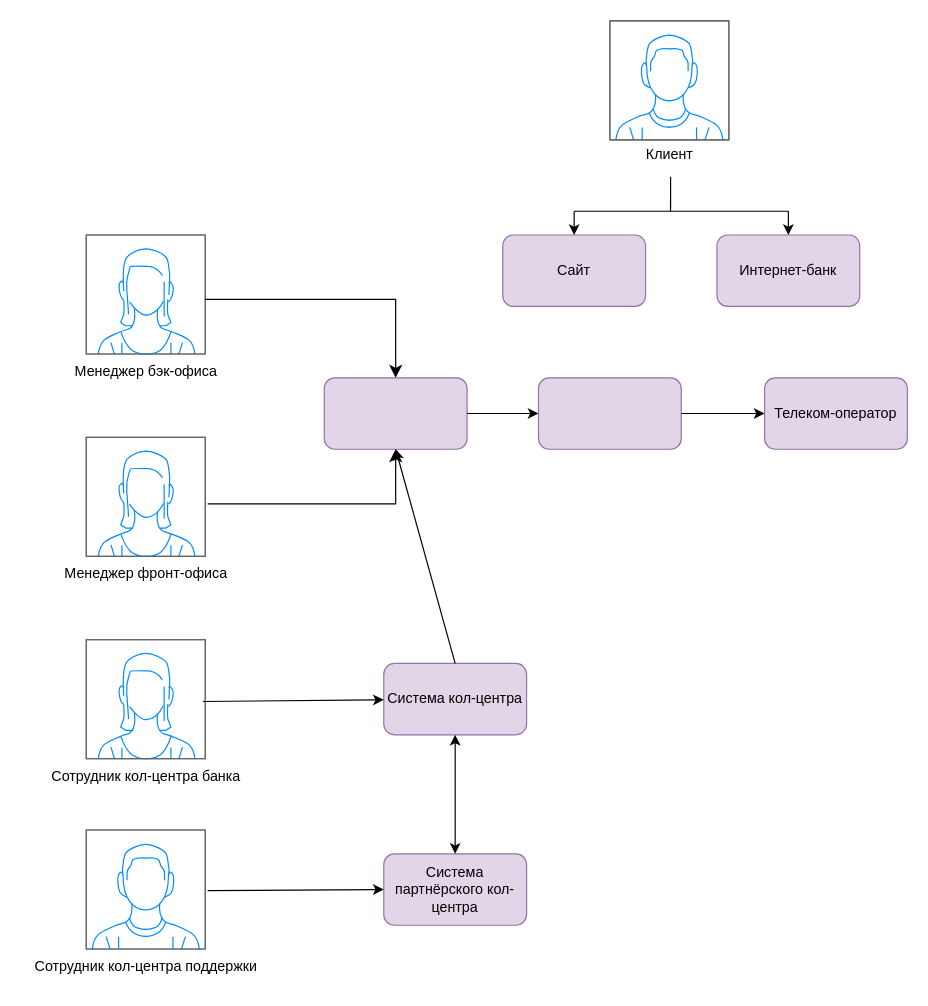
Some shapes in this 928 by 1006 pixel diagram are drawn without their labels. The centre of each missing label's shape, as x and y in pixels:
"АБС" belongs at [395,413].
"СМС-шлюз телеком оператора" belongs at [609,413].
